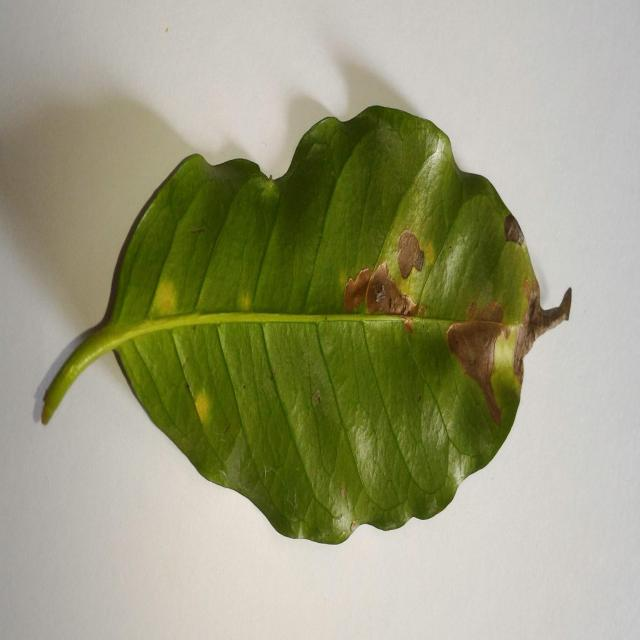miner: (447, 301, 509, 426), (513, 282, 571, 384), (344, 261, 418, 318), (397, 230, 424, 278), (502, 211, 524, 246)
rust: (149, 273, 194, 318), (194, 383, 214, 427)
